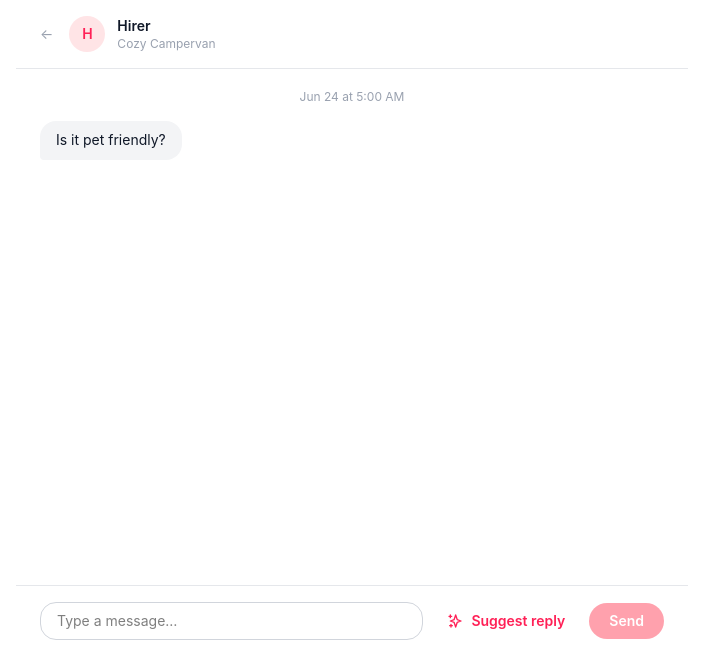
Test: ChatPage — Suggest reply (owner) › inserts the suggested reply into the compose field when the owner clicks Suggest reply
Click the button "Suggest reply" at [506, 621], box [435,603,577,639]
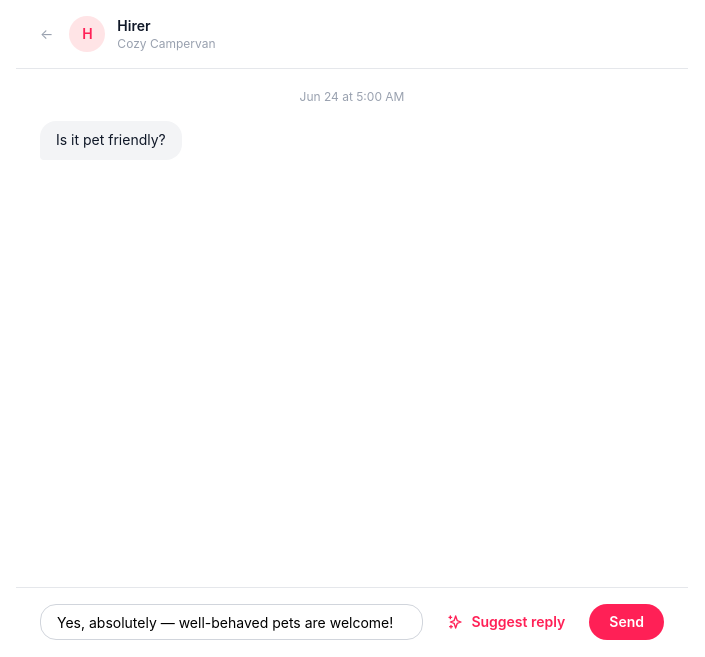
Expected: the text box with placeholder "Type a message…" holds "Yes, absolutely — well-behaved pets are welcome!", [40,604,423,640]
